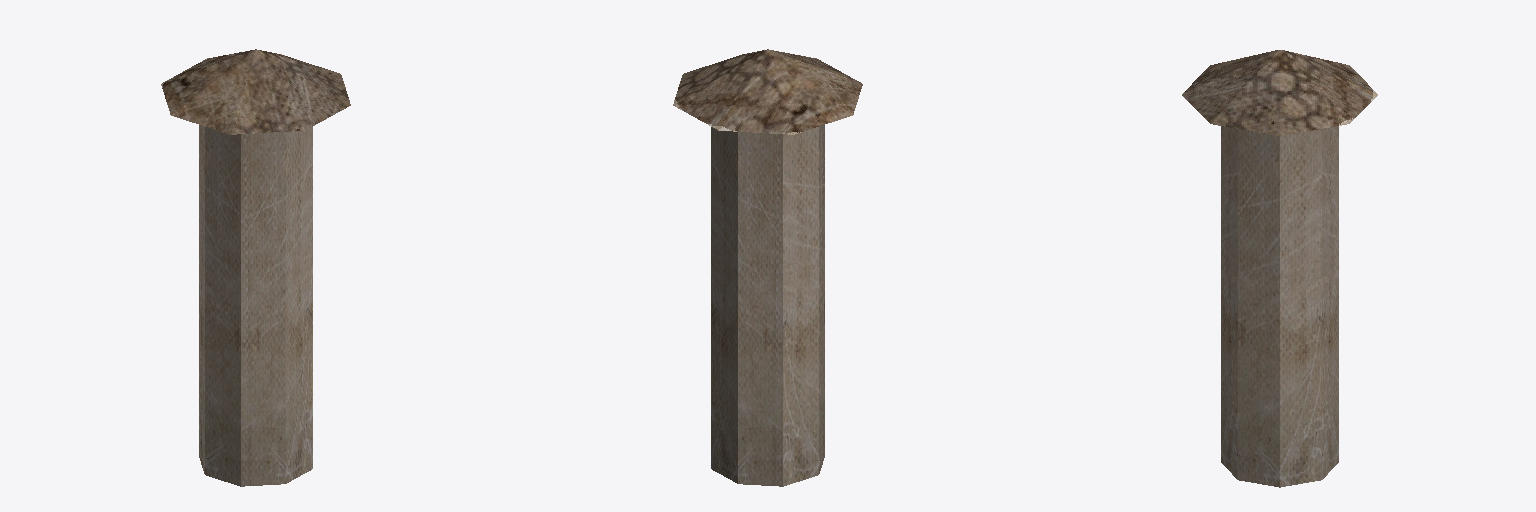
The picture shows the model from 3 angles: view 1: azimuth 30°, elevation 25°; view 2: azimuth 150°, elevation 25°; view 3: azimuth 270°, elevation 25°; orthographic projection.
Parts seen in each view (by area): view 1: pipe_3; view 2: pipe_3; view 3: pipe_3.
Part boxes in pixels (left/top/right/bottom): pipe_3: left=161, top=49, right=350, bottom=486; pipe_3: left=673, top=49, right=862, bottom=486; pipe_3: left=1182, top=50, right=1377, bottom=487.
Bounding box in the file's own units: 0.1997 × 0.4625 × 0.1997.
1 materials, 1 textured.